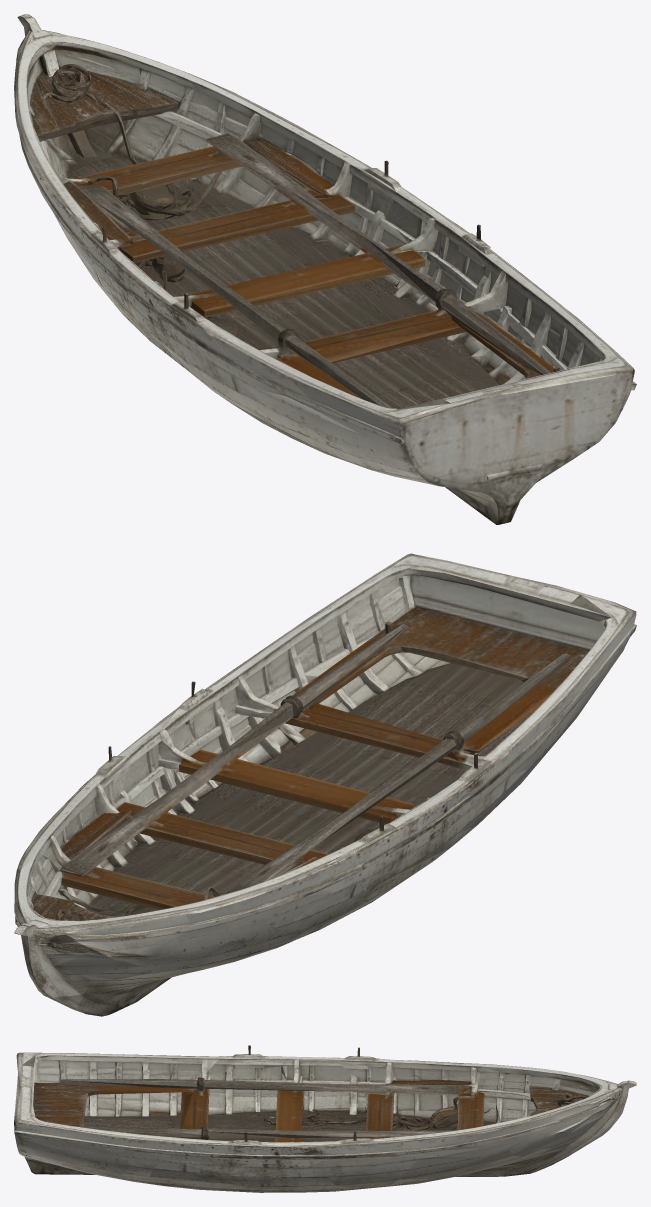
Rendered from jolly_boat.glb.
3 views of the same model, one above another, from view 1: azimuth 30°, elevation 25°; view 2: azimuth 150°, elevation 25°; view 3: azimuth 270°, elevation 25° (orthographic). The views are drawn at different scales.
Visible parts, largest first — view 1: output_unwrapped; view 2: output_unwrapped; view 3: output_unwrapped.
Part boxes in pixels (x1,y1,x2,y2): output_unwrapped: (14, 14, 636, 524); output_unwrapped: (14, 553, 636, 1016); output_unwrapped: (14, 1045, 636, 1192).
Bounding box in the file's own units: 1.68 × 0.823 × 4.88.
Materials: 1 (1 with a texture image).
